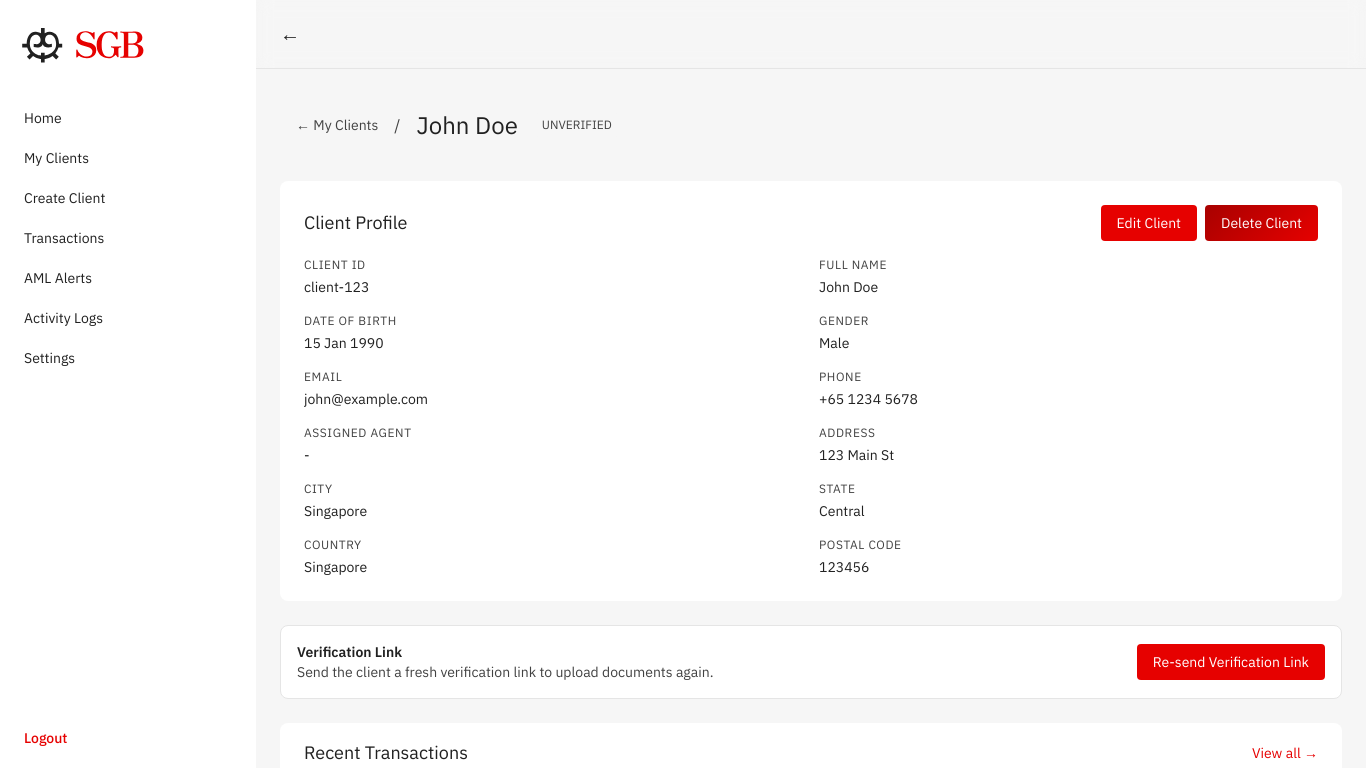
Test: ClientDetailPage › shows delete confirm modal when Delete button is clicked
Click the button "Delete Client".
click(1262, 223)  # box [1205,205,1318,241]
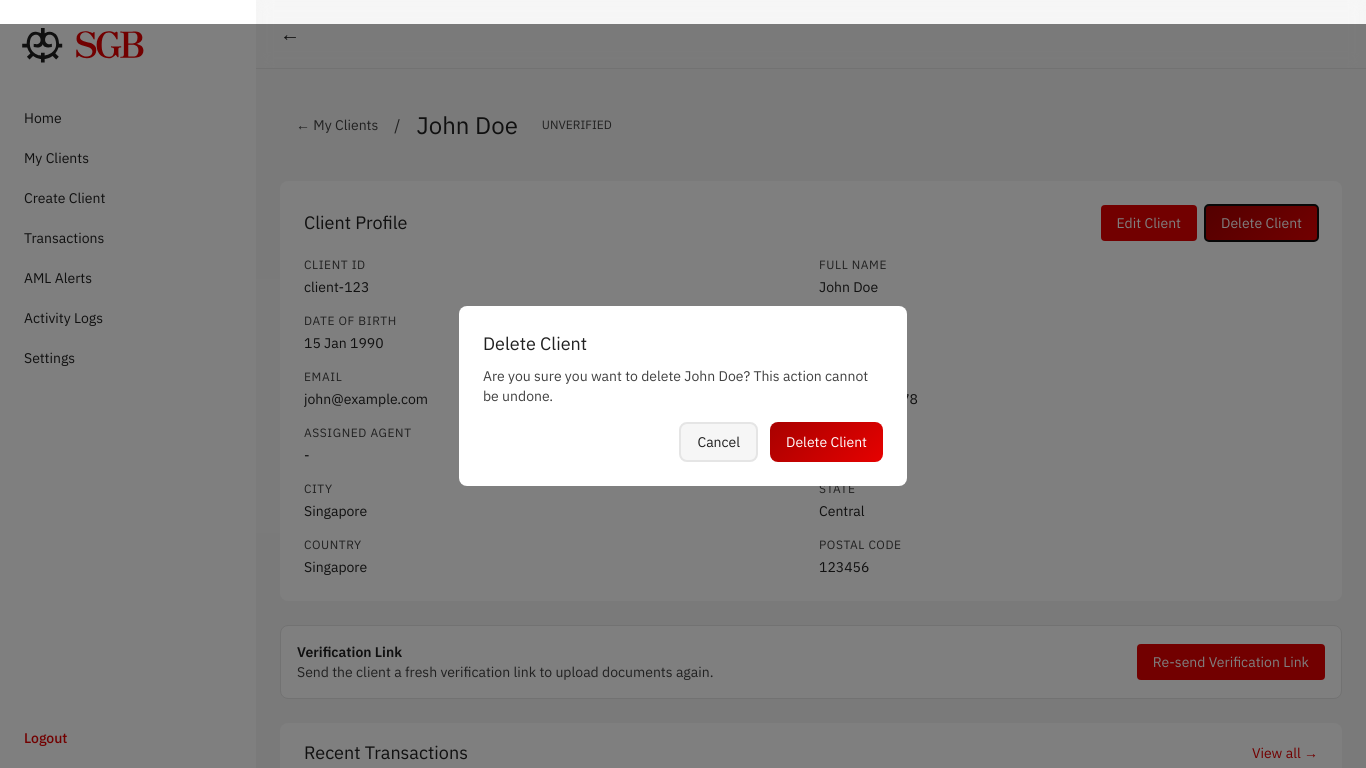
Now the element with test id "delete-client-modal" is shown
